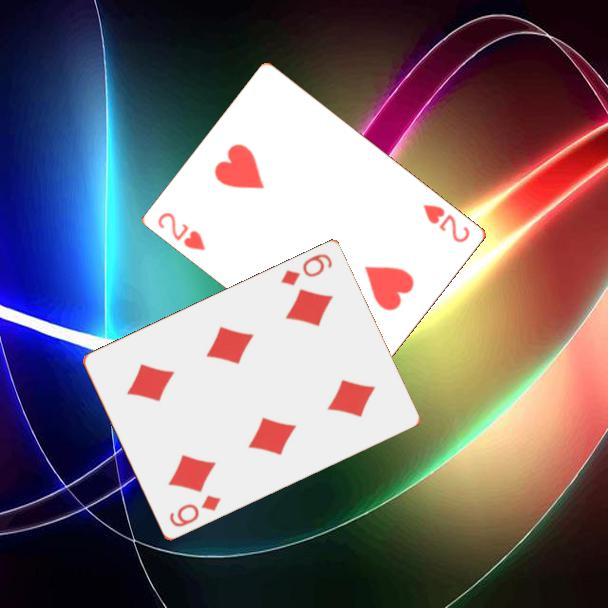d06: (277, 250, 335, 289), (166, 492, 224, 530)
h02: (420, 200, 473, 246), (155, 209, 209, 253)
